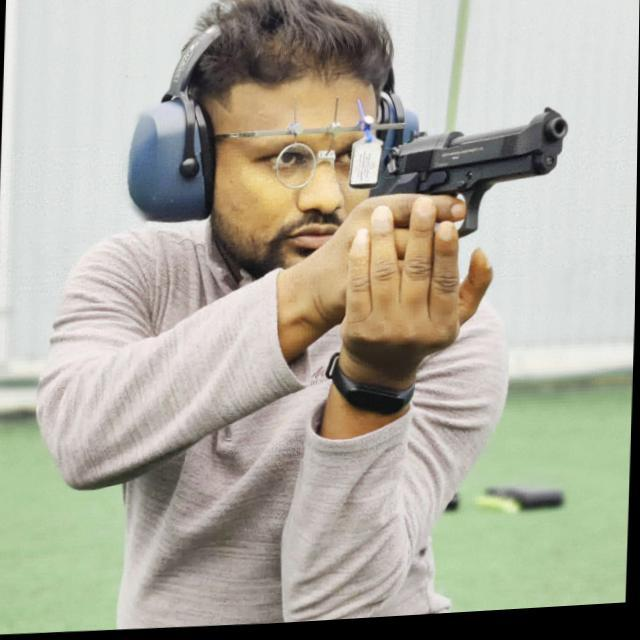weapon: (362, 104, 573, 289)
